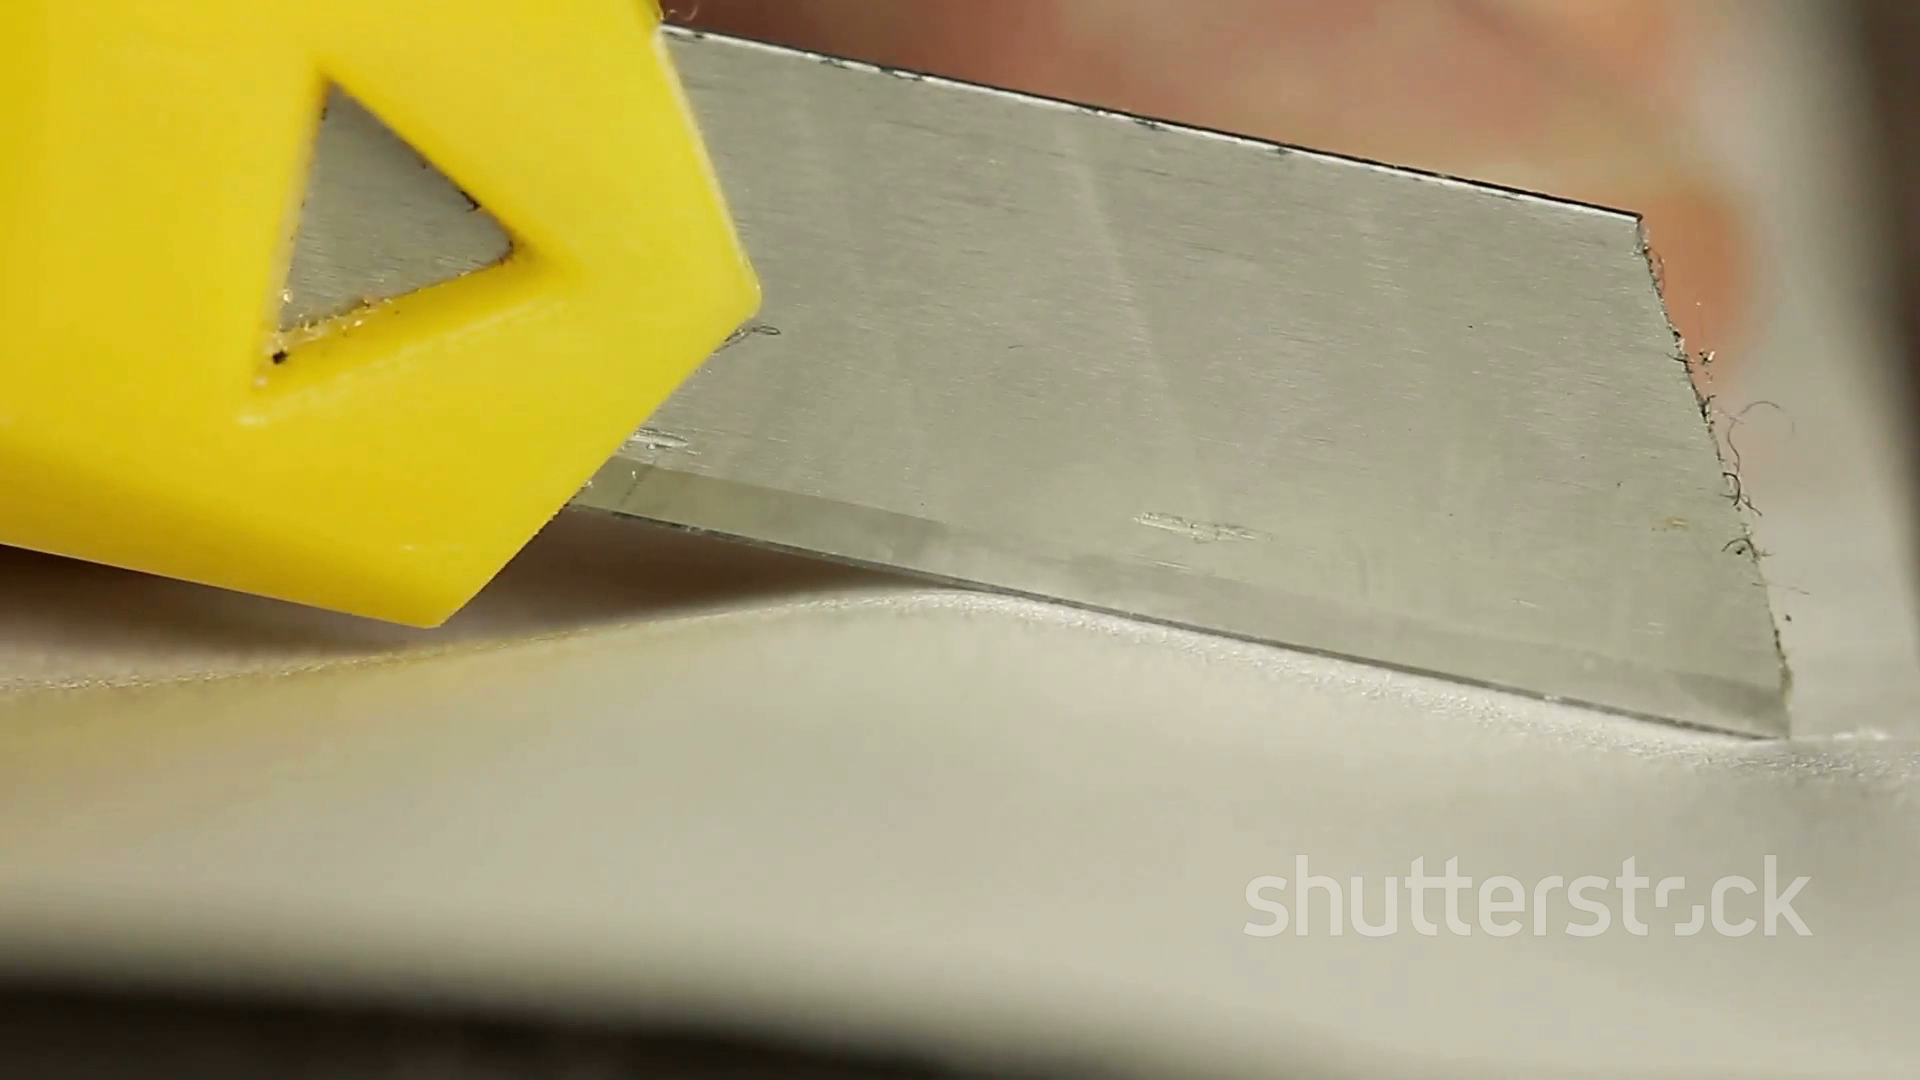cortante: (572, 21, 1787, 748)
